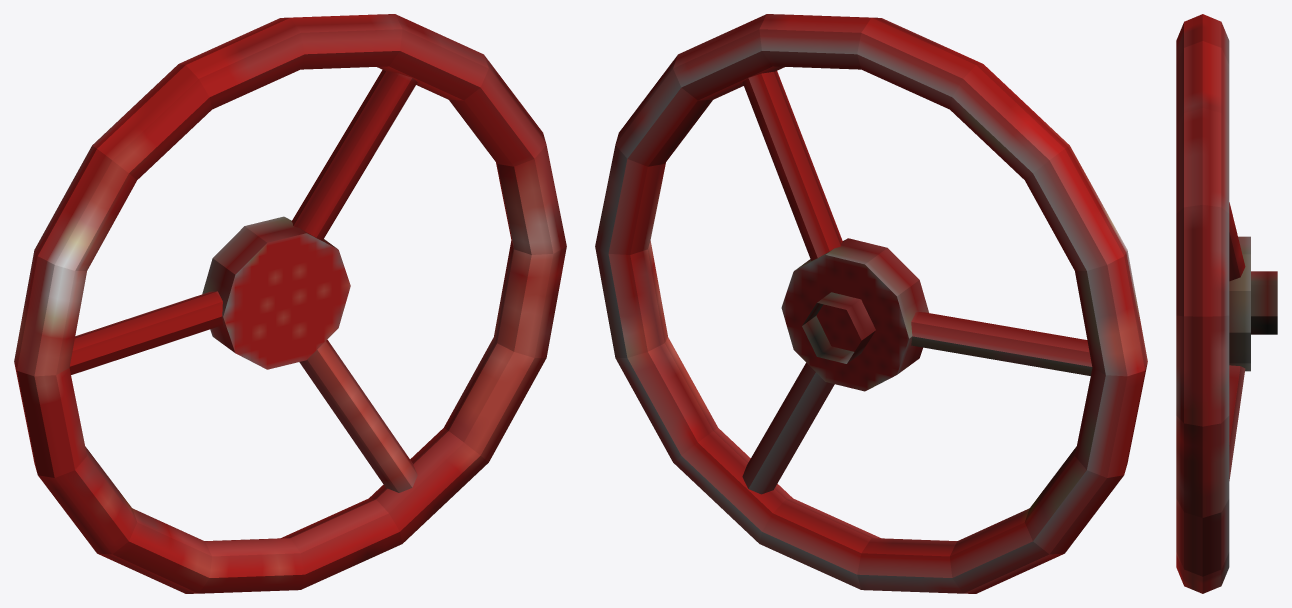
File: 节流截止放空阀.obj
The picture shows the model from 3 angles, left to right: view 1: azimuth 30°, elevation 25°; view 2: azimuth 150°, elevation 25°; view 3: azimuth 270°, elevation 25°; orthographic projection. The views are drawn at different scales.
Visible parts, largest first — view 1: default002; view 2: default002; view 3: default002.
Part boxes in pixels (box(x1,y1,x2,y2)): default002: box(14, 14, 566, 593); default002: box(595, 14, 1147, 593); default002: box(1176, 14, 1277, 593).
Bounding box in the file's own units: 1.29 × 1.29 × 0.2242.
